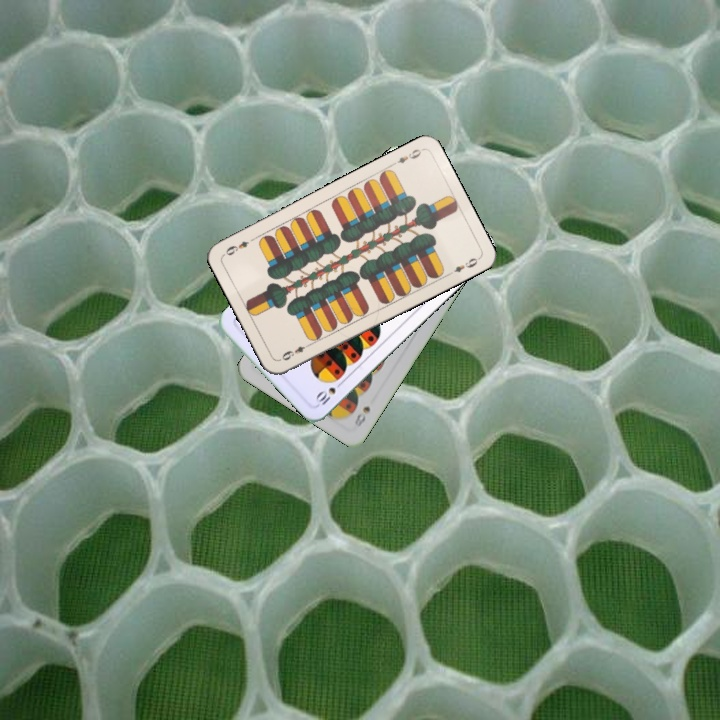E9: (275, 339, 313, 363), (387, 145, 425, 169)
S10: (311, 377, 346, 410)
S8: (350, 402, 373, 430)
